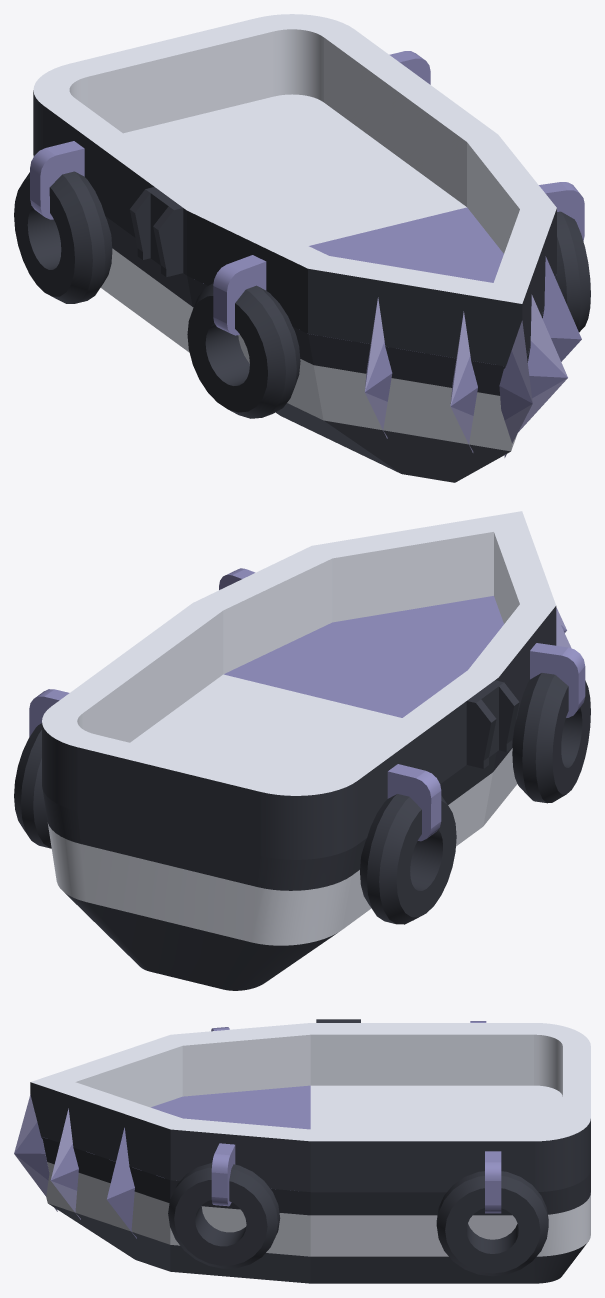
The model's file is boat small.fbx.
3 views of the same model, one above another, from view 1: azimuth 30°, elevation 25°; view 2: azimuth 150°, elevation 25°; view 3: azimuth 270°, elevation 25° (orthographic). The views are drawn at different scales.
Visible parts, largest first — view 1: rail_back, rail_front, hull_halfBack, detail_tireAttachment (×4), hull_halfFront, blade_dual_top (×5), detailTargetSight; view 2: hull_halfBack, rail_back, rail_front, detail_tireAttachment (×3), hull_halfFront, detailTargetSight; view 3: rail_back, hull_halfBack, rail_front, hull_halfFront, detail_tireAttachment (×2), blade_dual_top (×3).
Boxes of the visible parts, x1=… form: rail_back: x1=33, y1=14, x2=497, y2=275; rail_front: x1=187, y1=134, x2=556, y2=366; hull_halfBack: x1=100, y1=94, x2=466, y2=352; detail_tireAttachment (×4): x1=14, y1=51, x2=590, y2=418; hull_halfFront: x1=187, y1=207, x2=556, y2=482; blade_dual_top (×5): x1=364, y1=256, x2=581, y2=457; detailTargetSight: x1=129, y1=187, x2=183, y2=277; hull_halfBack: x1=43, y1=674, x2=496, y2=990; rail_back: x1=42, y1=603, x2=498, y2=859; rail_front: x1=193, y1=511, x2=556, y2=719; detail_tireAttachment (×3): x1=14, y1=643, x2=590, y2=924; hull_halfFront: x1=224, y1=596, x2=517, y2=825; detailTargetSight: x1=466, y1=680, x2=519, y2=768; rail_back: x1=310, y1=1023, x2=590, y2=1192; hull_halfBack: x1=310, y1=1085, x2=590, y2=1283; rail_front: x1=30, y1=1023, x2=310, y2=1191; hull_halfFront: x1=41, y1=1085, x2=310, y2=1283; detail_tireAttachment (×2): x1=168, y1=1143, x2=548, y2=1276; blade_dual_top (×3): x1=14, y1=1095, x2=136, y2=1238.
Bounding box in the file's own units: 19.26 × 10.5 × 30.88.
